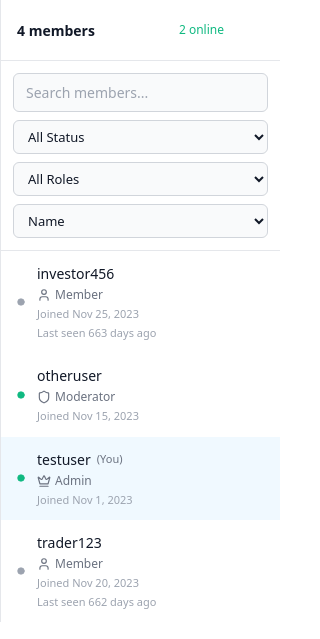
Test: GroupMembers › member actions › should show promote option for members
This screenshot has width=320, height=639.
Hover over the list item "trader123" at (87, 571), box x1=17 y1=533 x2=156 y2=608
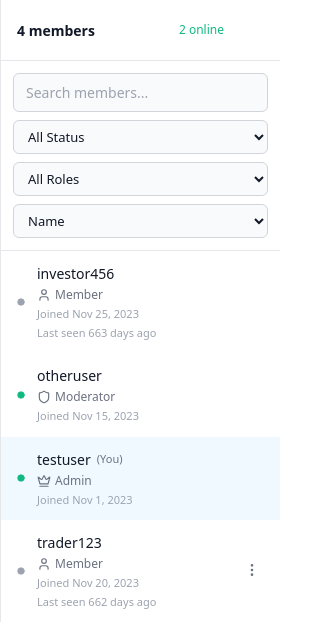
Click the button named "Member actions" at (252, 570), box x1=240 y1=558 x2=264 y2=582
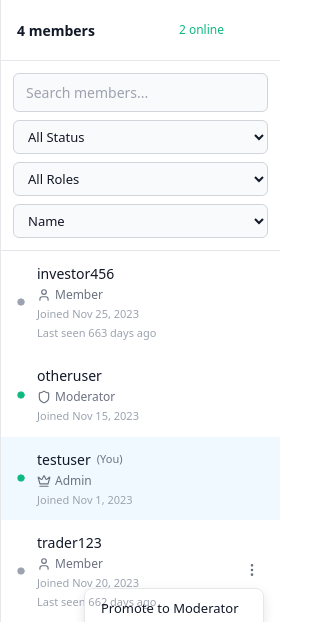
Now the menu item "Promote to Moderator" is shown, box x1=85 y1=589 x2=263 y2=622
